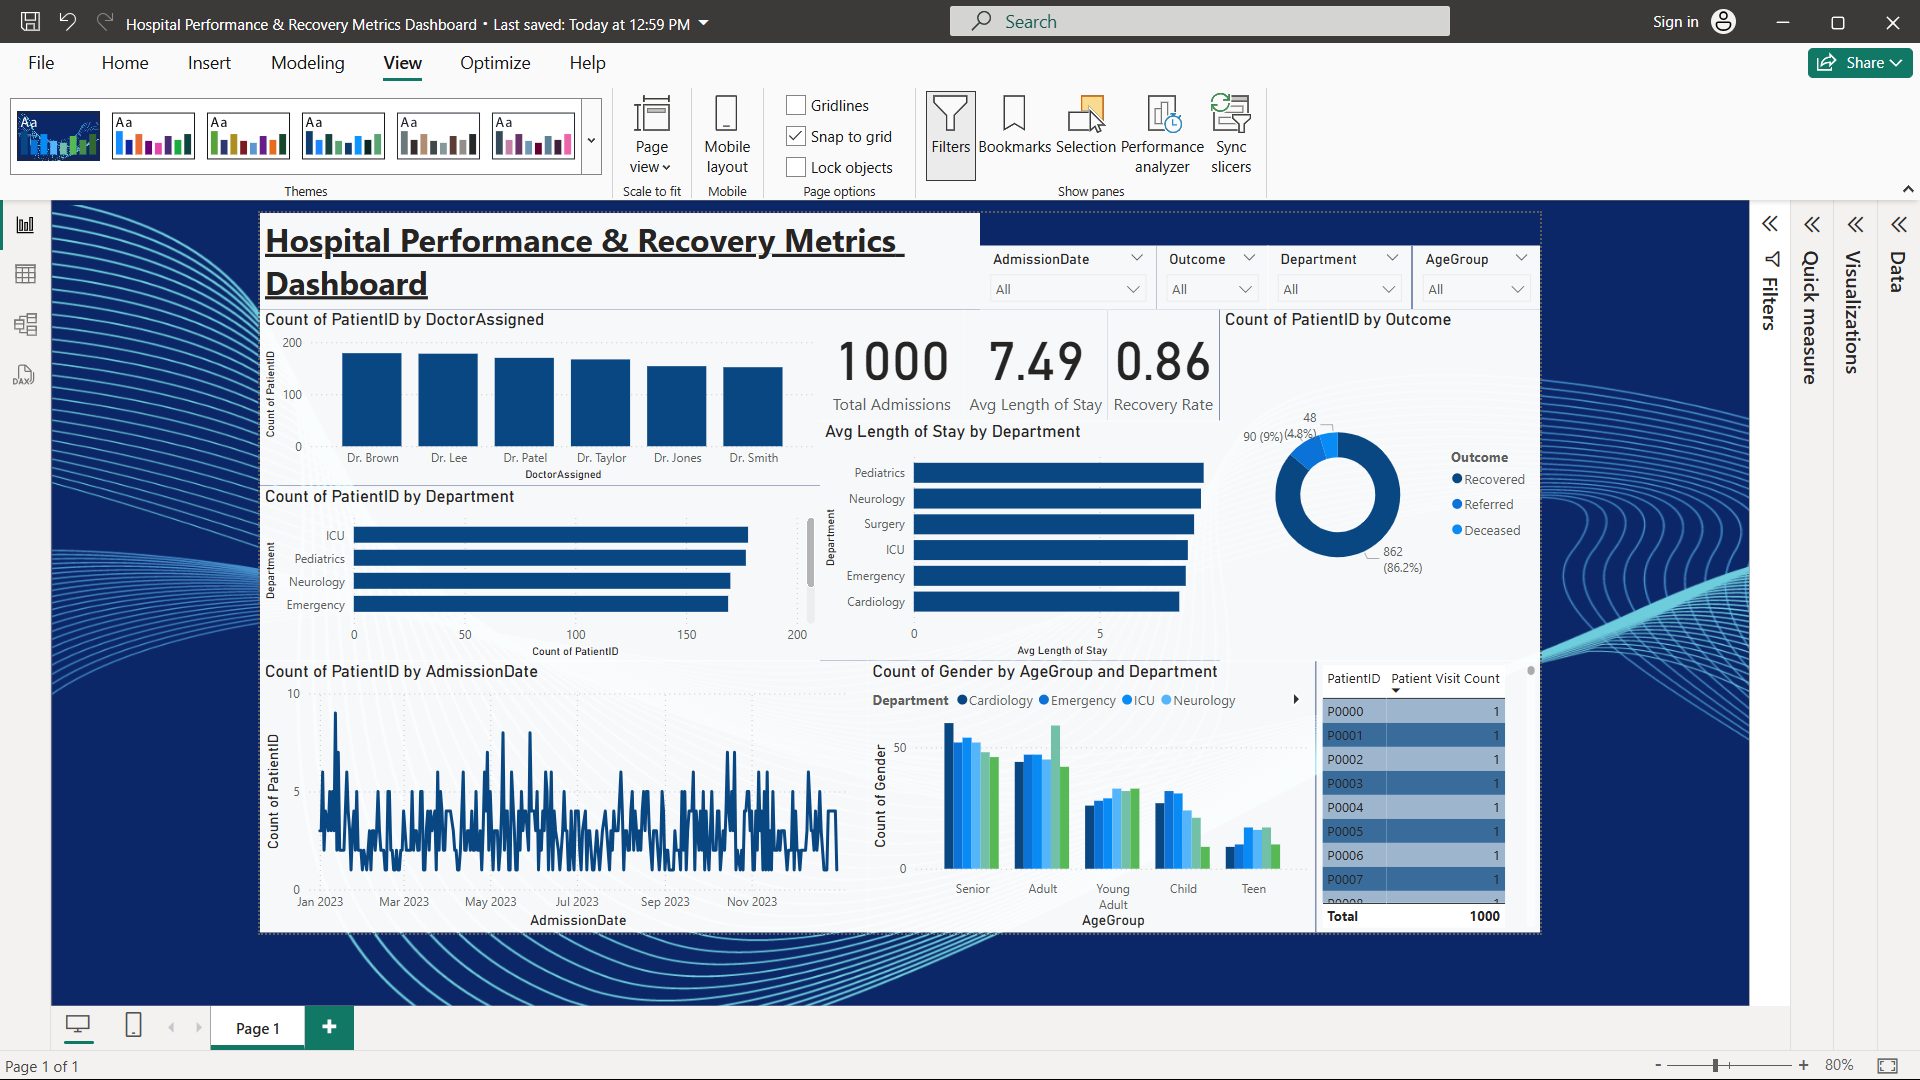

What the dashboard file says about the page in this screenshot:
{"tool":"powerbi","page":{"name":"Page 1","canvas":[1280,720],"ordinal":0},"visuals":[{"type":"card","fields":{"Values":["Hospital_Admissions_Data.Total Admissions"]},"box":[560,96,144,112],"z":0},{"type":"card","fields":{"Values":["Sheet1.Avg Length of Stay"]},"box":[704,96,144,112],"z":1},{"type":"lineChart","fields":{"Category":["Sheet1.AdmissionDate"],"Y":["CountNonNull(Sheet1.PatientID)"]},"box":[0,448,608,272],"z":2},{"type":"barChart","fields":{"Y":["CountNonNull(Hospital_Admissions_Data.PatientID)"],"Category":["Hospital_Admissions_Data.Department"]},"box":[0,272,560,176],"z":3},{"type":"card","fields":{"Values":["Sheet1.Recovery Rate"]},"box":[848,96,112,112],"z":4},{"type":"tableEx","fields":{"Values":["Sheet1.PatientID","Sheet1.Patient Visit Count"]},"box":[1056,448,224,272],"z":6},{"type":"donutChart","fields":{"Category":["Sheet1.Outcome"],"Y":["CountNonNull(Sheet1.PatientID)"]},"box":[960,96,320,352],"z":7},{"type":"clusteredColumnChart","fields":{"Category":["Sheet1.AgeGroup"],"Y":["CountNonNull(Sheet1.Gender)"],"Series":["Sheet1.Department"]},"box":[608,448,448,272],"z":9},{"type":"barChart","fields":{"Y":["Sheet1.Avg Length of Stay"],"Category":["Sheet1.Department"]},"box":[560,208,400,240],"z":10},{"type":"columnChart","fields":{"Y":["CountNonNull(Sheet1.PatientID)"],"Category":["Sheet1.DoctorAssigned"]},"box":[0,96,560,176],"z":11},{"type":"slicer","fields":{"Values":["Sheet1.AdmissionDate"]},"box":[720,32,176,64],"z":12},{"type":"slicer","fields":{"Values":["Sheet1.Outcome"]},"box":[896,32,112,64],"z":13},{"type":"slicer","fields":{"Values":["Sheet1.Department"]},"box":[1008,32,144,64],"z":14},{"type":"slicer","fields":{"Values":["Sheet1.AgeGroup"]},"box":[1152,32,128,64],"z":15},{"type":"textbox","box":[0,0,720,96],"z":16}]}

Visuals, with their boxes on the page's 1280x720 design canvas (x1, y1, x2, y2). These are canvas units, not pixel positions in the 1920x1080 screenshot, which may show the page scaled, cropped or inside an application window:
card - Hospital_Admissions_Data.Total Admissions: bbox=(560, 96, 704, 208)
card - Sheet1.Avg Length of Stay: bbox=(704, 96, 848, 208)
lineChart - Sheet1.AdmissionDate x CountNonNull(Sheet1.PatientID): bbox=(0, 448, 608, 720)
barChart - CountNonNull(Hospital_Admissions_Data.PatientID) x Hospital_Admissions_Data.Department: bbox=(0, 272, 560, 448)
card - Sheet1.Recovery Rate: bbox=(848, 96, 960, 208)
tableEx - Sheet1.PatientID x Sheet1.Patient Visit Count: bbox=(1056, 448, 1280, 720)
donutChart - Sheet1.Outcome x CountNonNull(Sheet1.PatientID): bbox=(960, 96, 1280, 448)
clusteredColumnChart - Sheet1.AgeGroup x CountNonNull(Sheet1.Gender): bbox=(608, 448, 1056, 720)
barChart - Sheet1.Avg Length of Stay x Sheet1.Department: bbox=(560, 208, 960, 448)
columnChart - CountNonNull(Sheet1.PatientID) x Sheet1.DoctorAssigned: bbox=(0, 96, 560, 272)
slicer - Sheet1.AdmissionDate: bbox=(720, 32, 896, 96)
slicer - Sheet1.Outcome: bbox=(896, 32, 1008, 96)
slicer - Sheet1.Department: bbox=(1008, 32, 1152, 96)
slicer - Sheet1.AgeGroup: bbox=(1152, 32, 1280, 96)
textbox: bbox=(0, 0, 720, 96)
